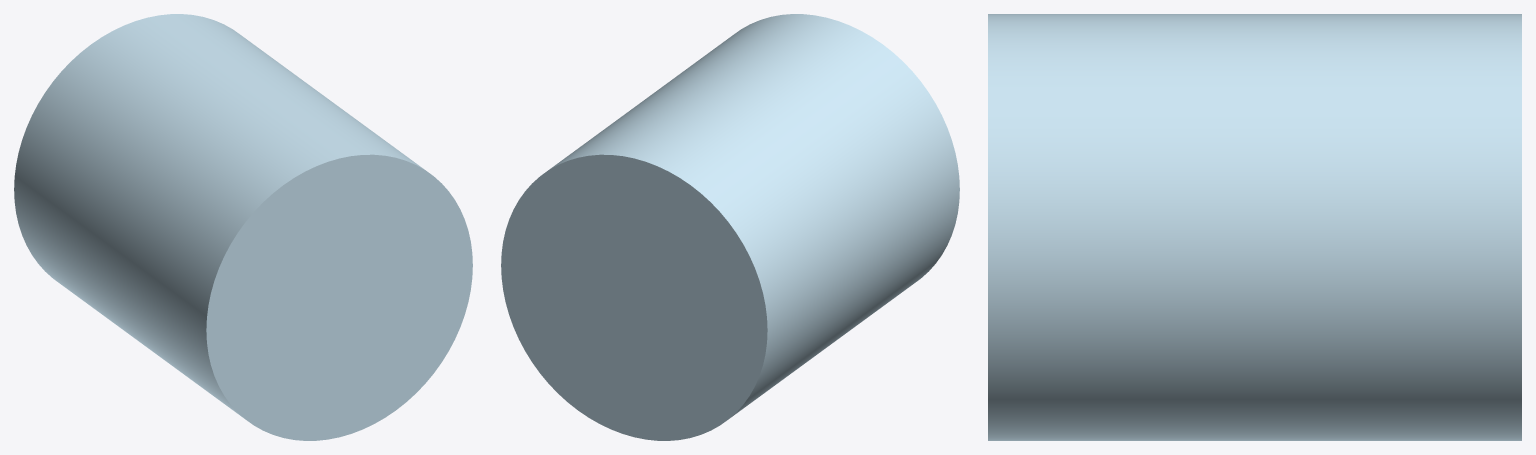
3 renders of one model, left to right at view 1: azimuth 30°, elevation 25°; view 2: azimuth 150°, elevation 25°; view 3: azimuth 270°, elevation 25°, orthographic. The views are drawn at different scales.
Parts seen in each view (by area): view 1: Part 1; view 2: Part 1; view 3: Part 1.
Part boxes in pixels (x1,y1,x2,y2): Part 1: (14, 14, 472, 440); Part 1: (501, 14, 959, 440); Part 1: (988, 14, 1521, 440).
Size of the model in its own units: 0.04 by 0.04 by 0.05.
